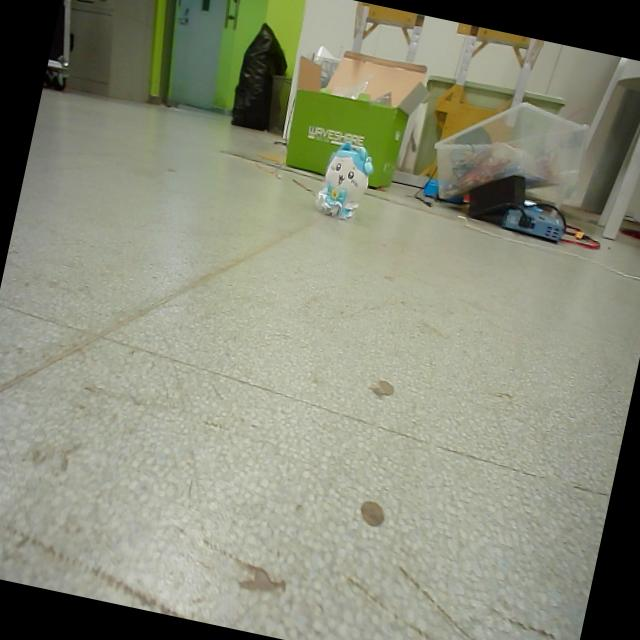xiaoba: (310, 134, 379, 230)
